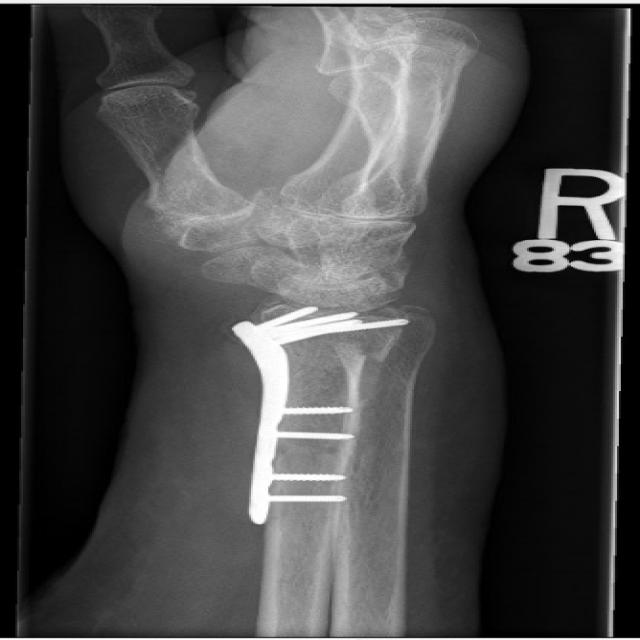x-ray: (207, 300, 423, 544)
